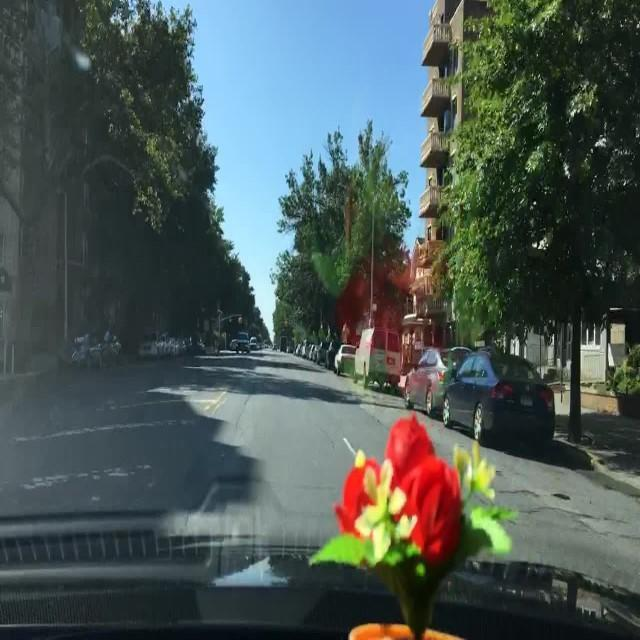multiple_accident: (397, 330, 566, 462)
